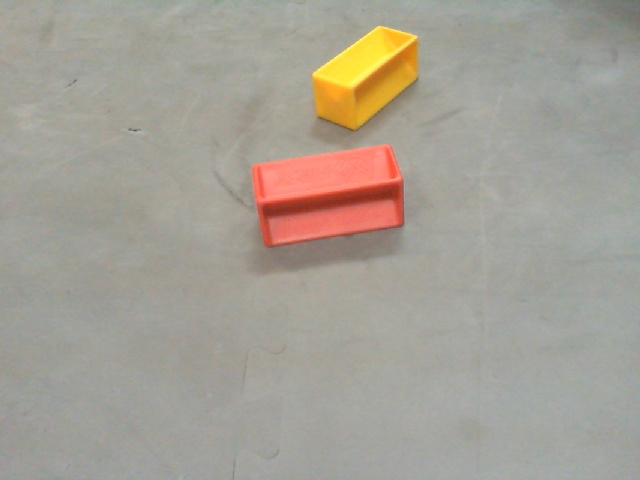RedSample: (250, 143, 408, 247)
YellowSample: (310, 26, 418, 135)
